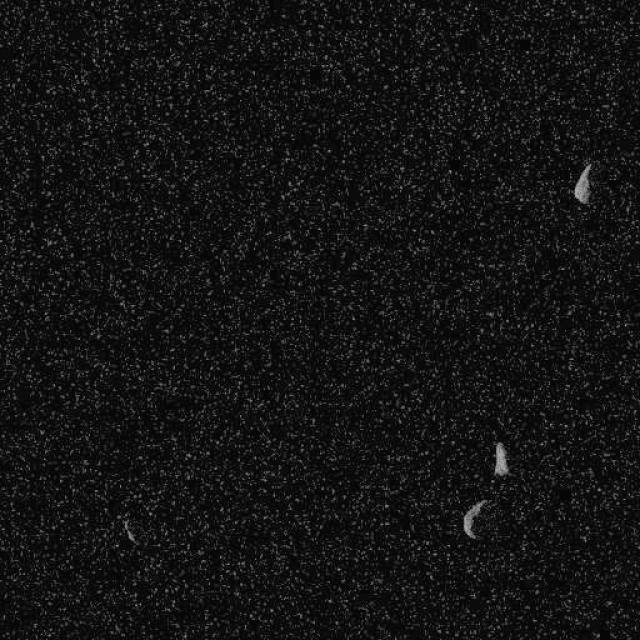D2: (461, 498, 491, 540), (572, 161, 592, 204), (491, 442, 510, 478), (119, 515, 139, 546)
